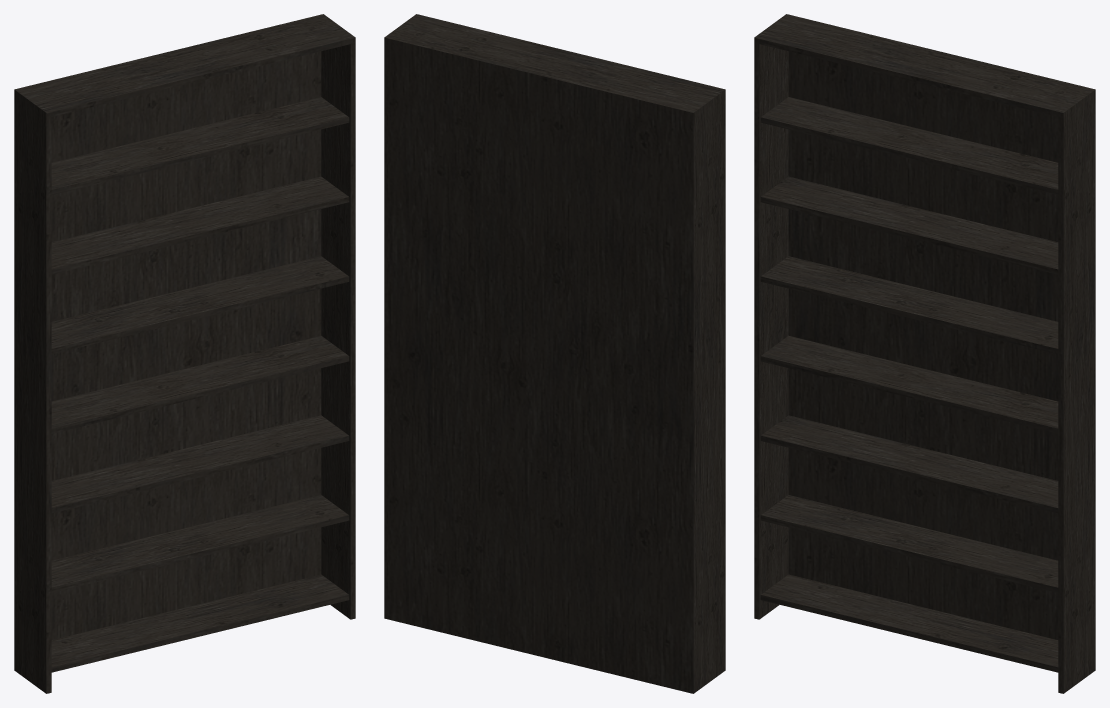
The model's file is shelf_mp_4.obj.
3 renders of one model, left to right at view 1: azimuth 30°, elevation 25°; view 2: azimuth 150°, elevation 25°; view 3: azimuth 330°, elevation 25°, orthographic.
Parts seen in each view (by area): view 1: shelf_mp_4; view 2: shelf_mp_4; view 3: shelf_mp_4.
Boxes of the visible parts, x1,y1,x2,y2 form: shelf_mp_4: (14, 14, 355, 693); shelf_mp_4: (384, 14, 725, 693); shelf_mp_4: (754, 14, 1095, 693).
Size of the model in its own units: 1.22 by 2.19 by 0.22.
